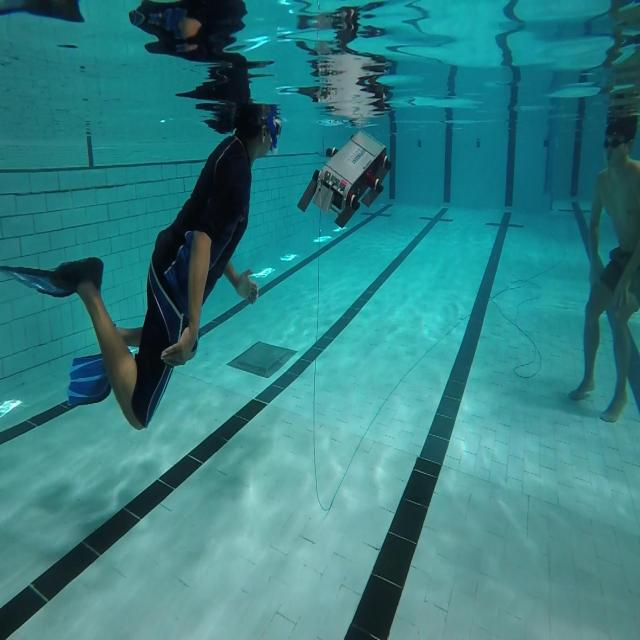human: (0, 98, 282, 431), (568, 94, 639, 423)
